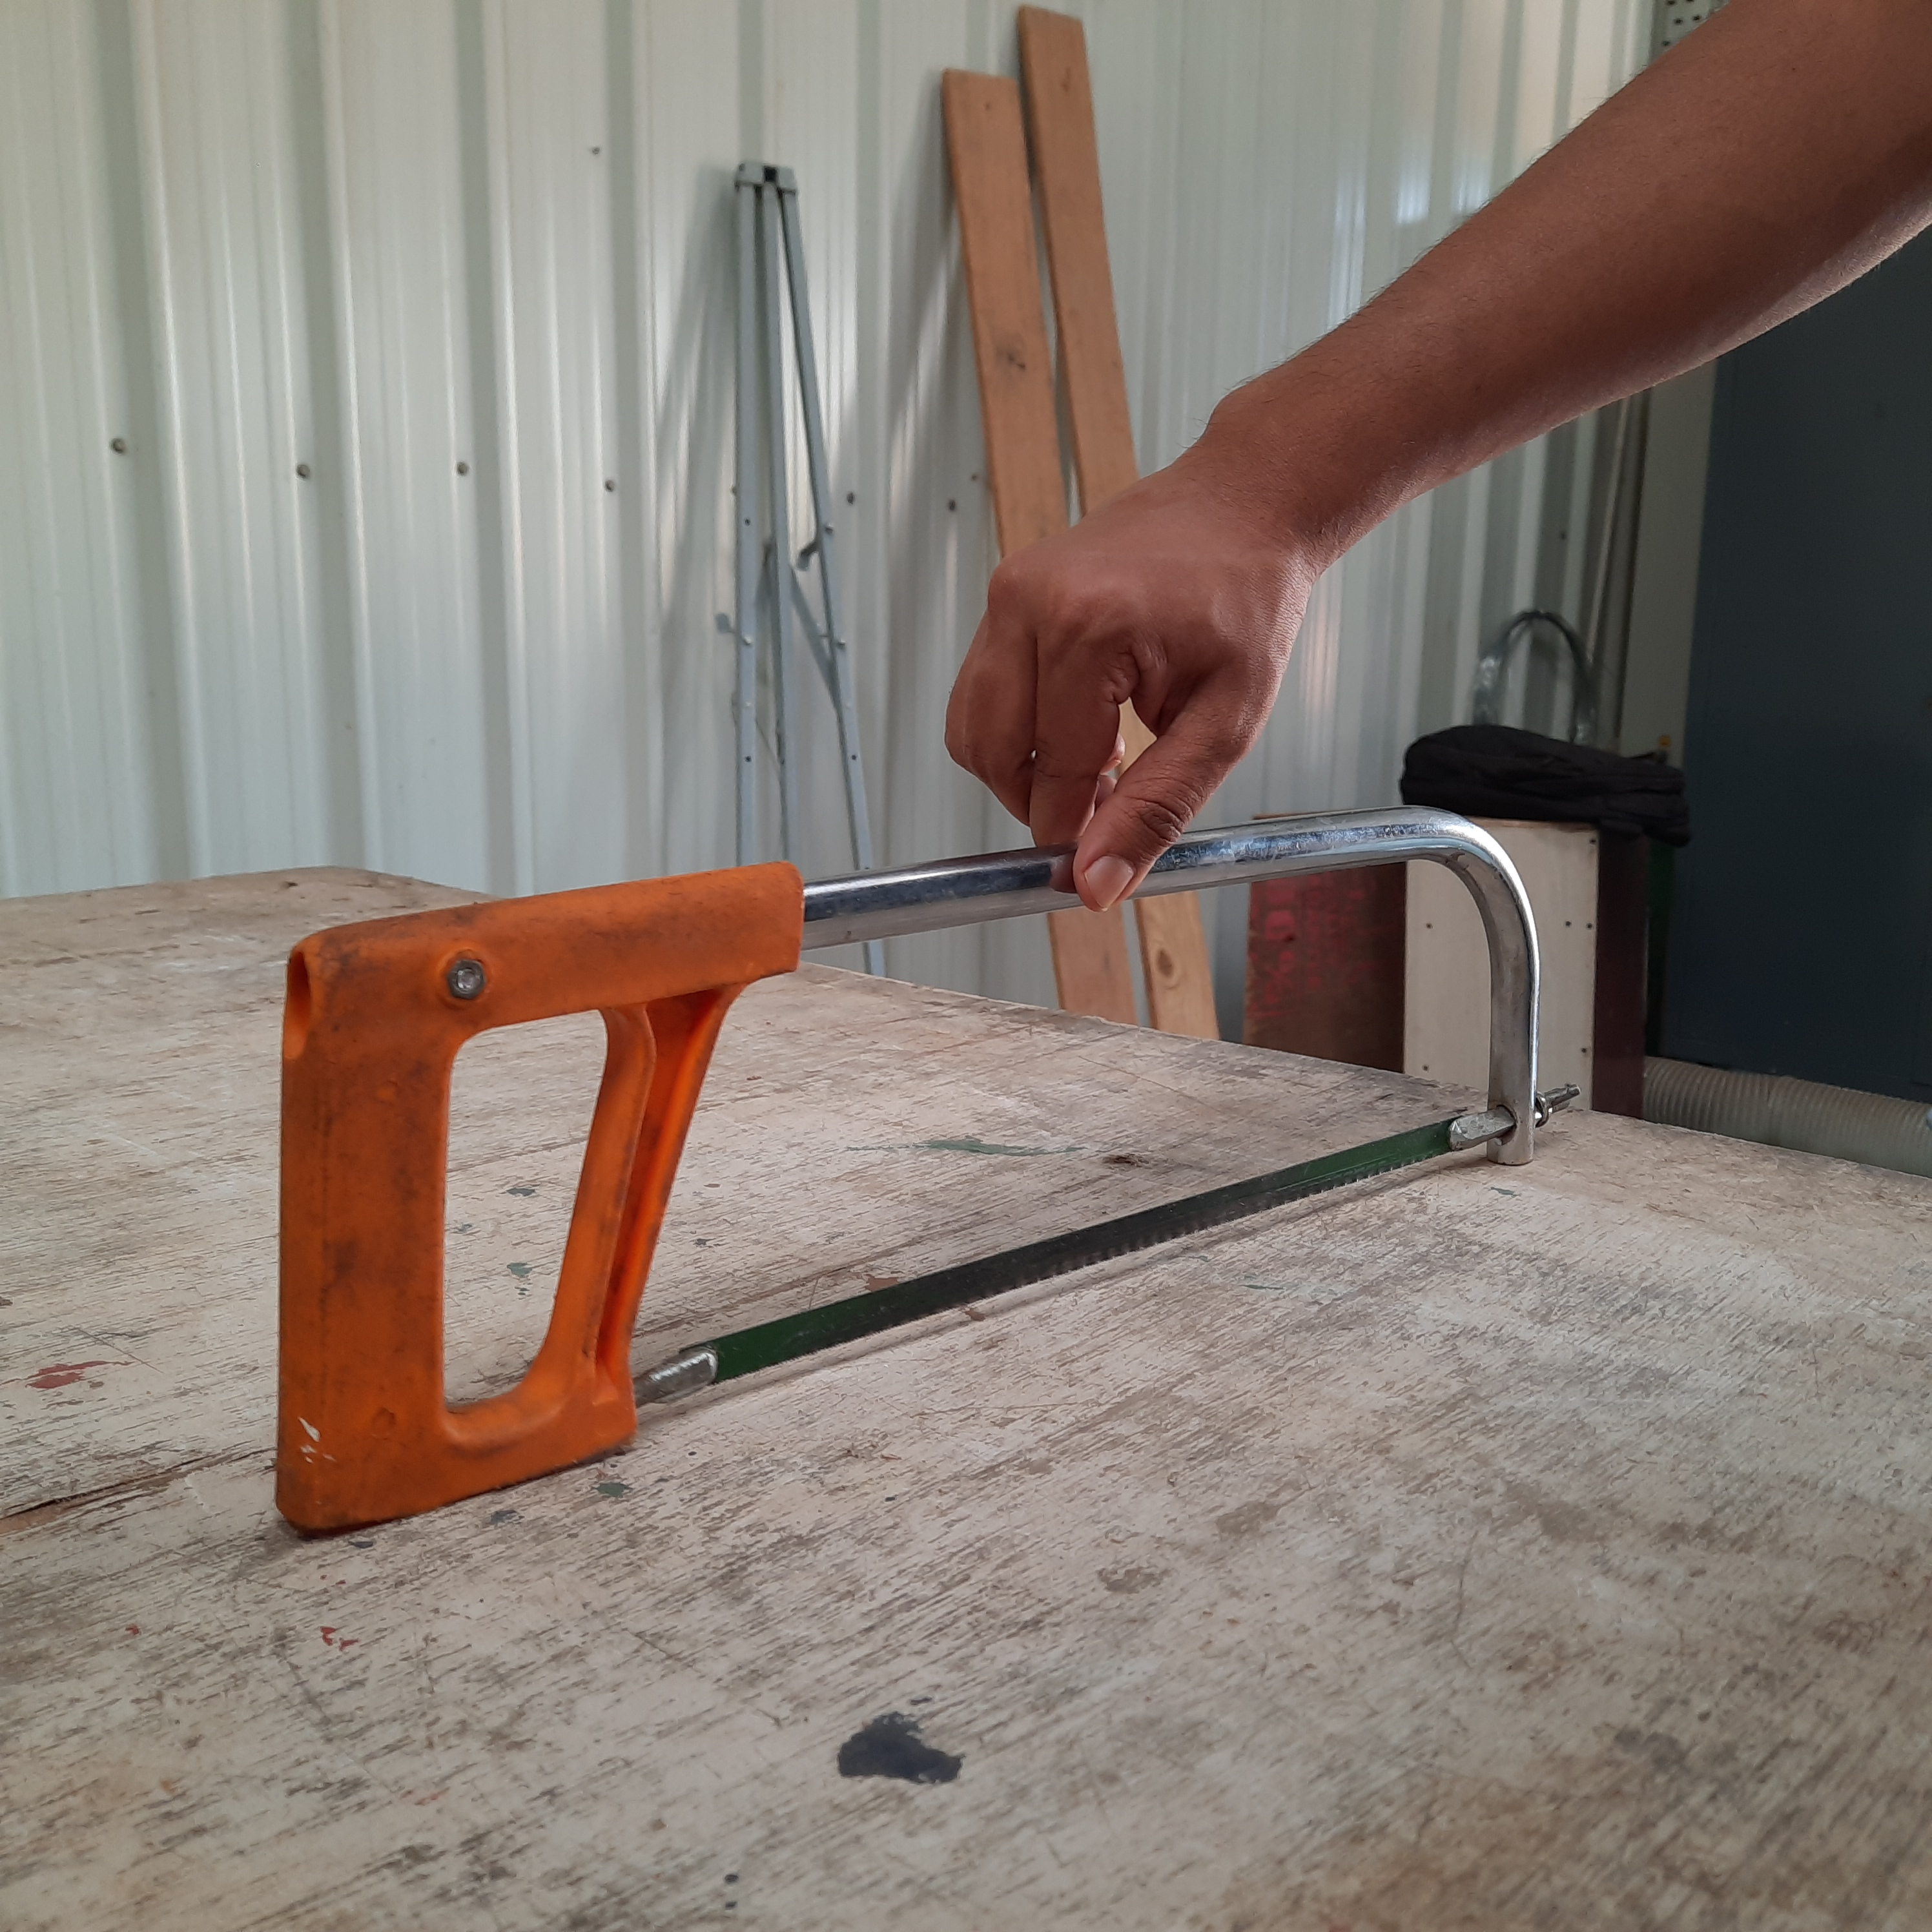Hexaframe: (244, 823, 1624, 1529)
